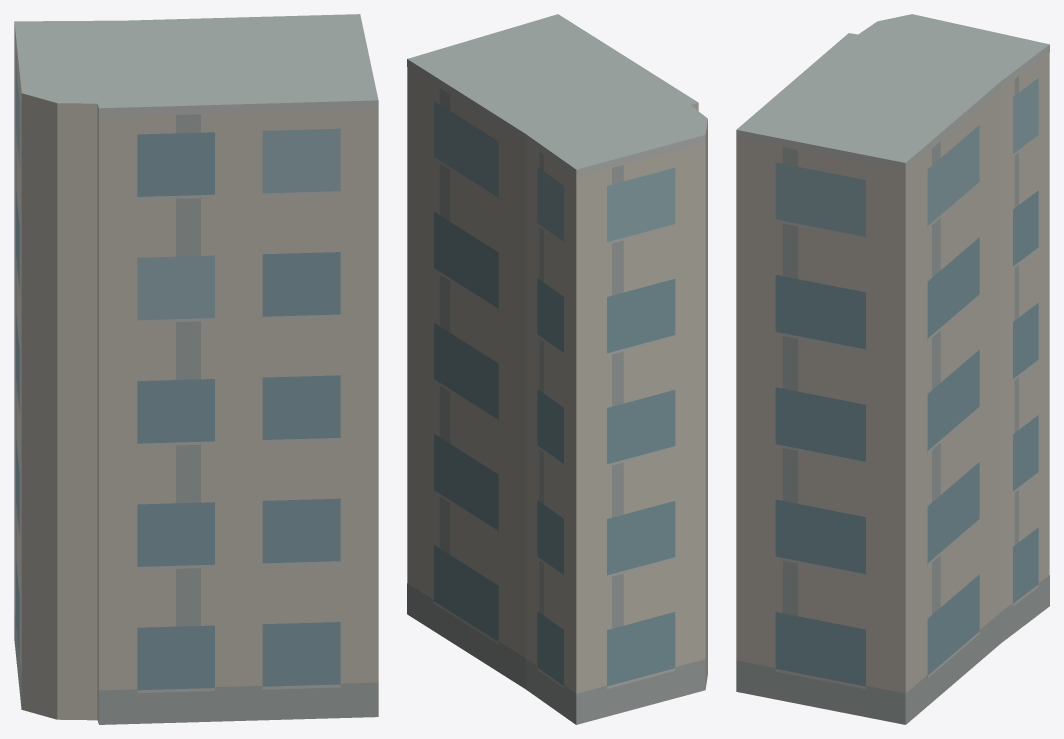
File: survey-upis-32729602.glb
3 renders of one model, left to right at view 1: azimuth 30°, elevation 25°; view 2: azimuth 150°, elevation 25°; view 3: azimuth 270°, elevation 25°, orthographic. The views are drawn at different scales.
Visible parts, largest first — view 1: survey-upis-32729602.tmp; view 2: survey-upis-32729602.tmp; view 3: survey-upis-32729602.tmp.
Boxes of the visible parts, bbox=[...] form: survey-upis-32729602.tmp: bbox=[14, 14, 378, 724]; survey-upis-32729602.tmp: bbox=[407, 14, 707, 724]; survey-upis-32729602.tmp: bbox=[736, 14, 1049, 724].
Bounding box in the file's own units: 9.56 × 16.8 × 8.5.
